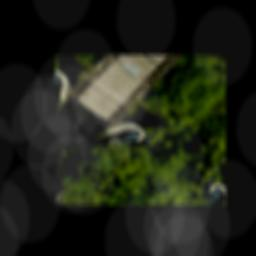Swallow: (69, 106, 156, 181)
